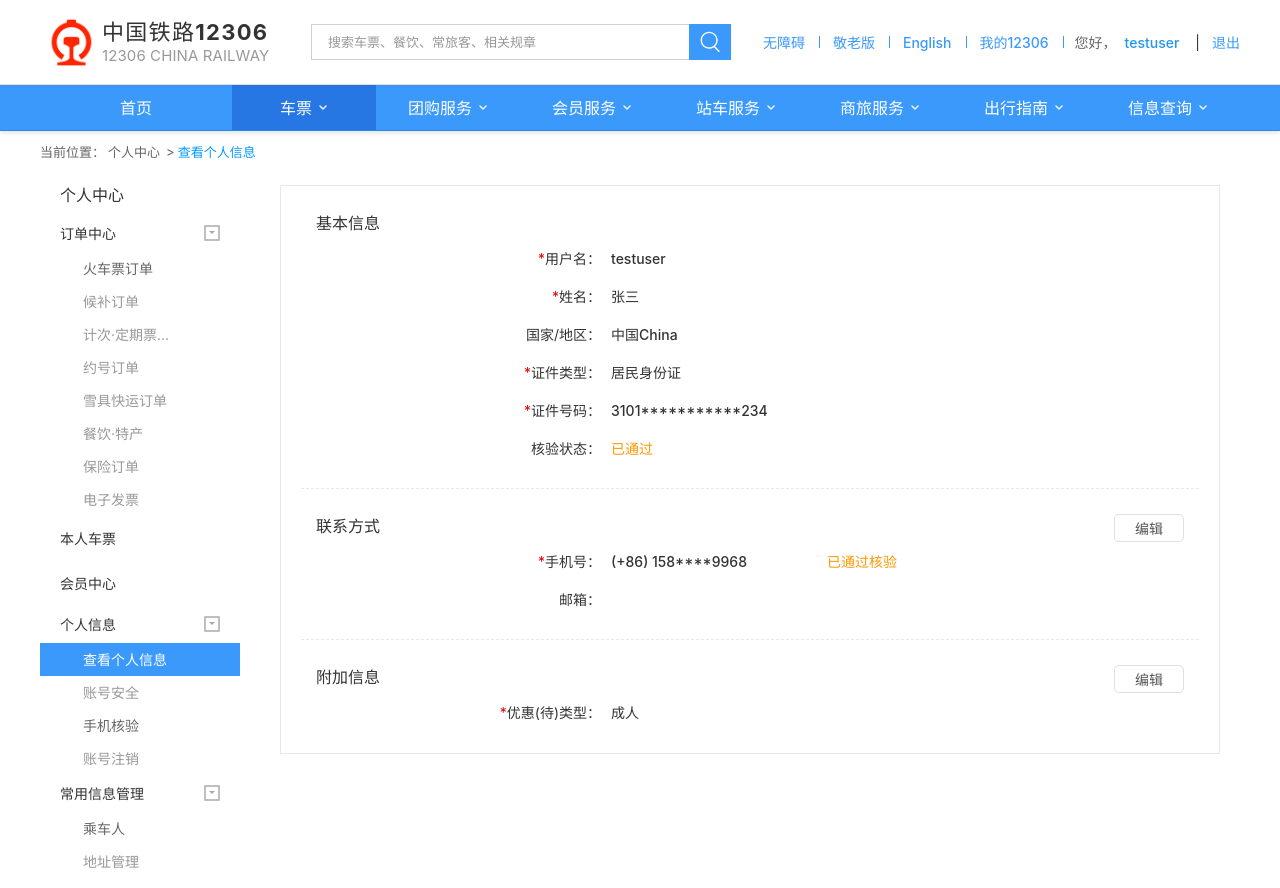
个人信息编辑流程跨页测试 › [P1] 邮箱编辑流程 › 应该能够取消联系方式编辑
This screenshot has width=1280, height=888.
Step 1. Click the button with class "edit-button" in the row of "联系方式" → (1149, 528), box [1114, 514, 1184, 542]
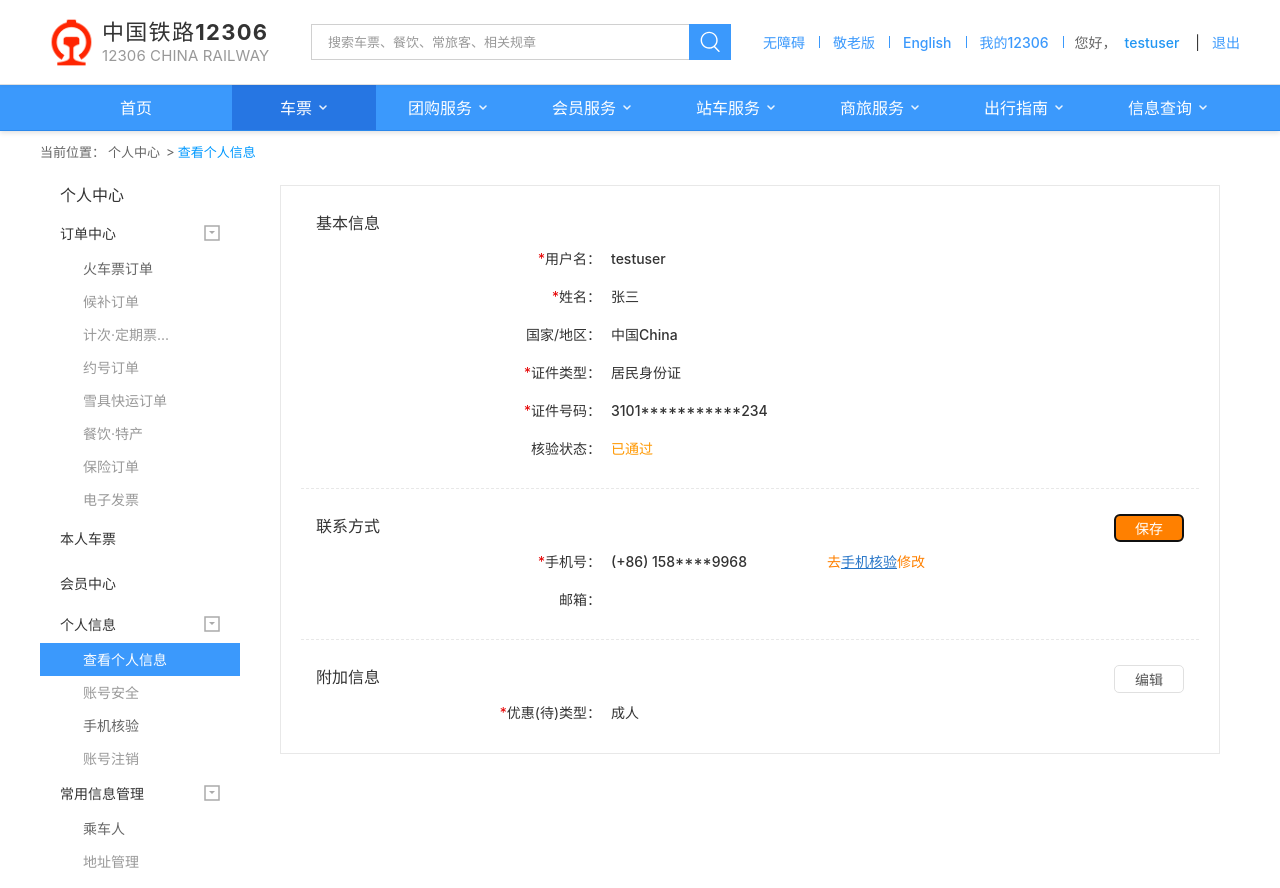
点击保存按钮（这会退出编辑模式）
Step 2. Click the button with class "edit-button" → (1149, 528), box [1114, 514, 1184, 542]
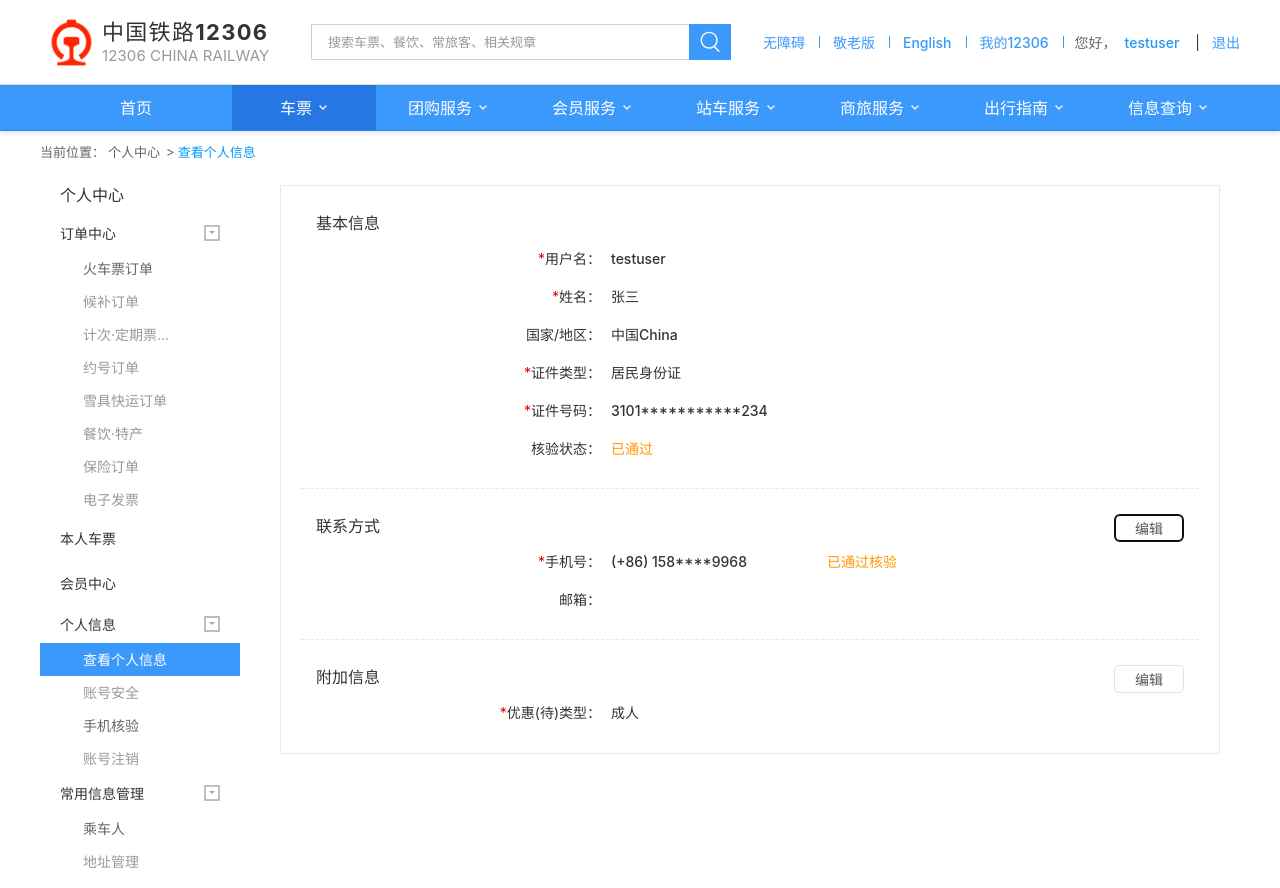
Result: the button with class "edit-button" in the row of "联系方式" is shown at [1114, 514, 1184, 542]
